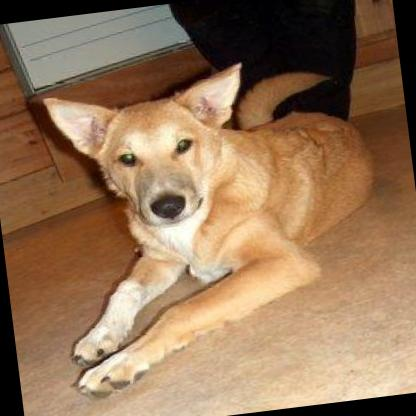dhole: (32, 41, 396, 398)
